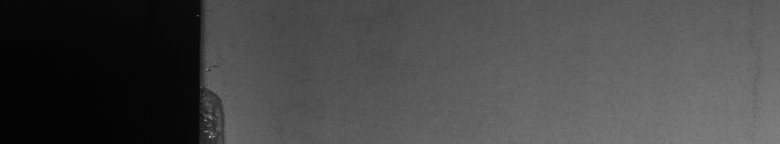hb: (208, 65, 232, 136)
